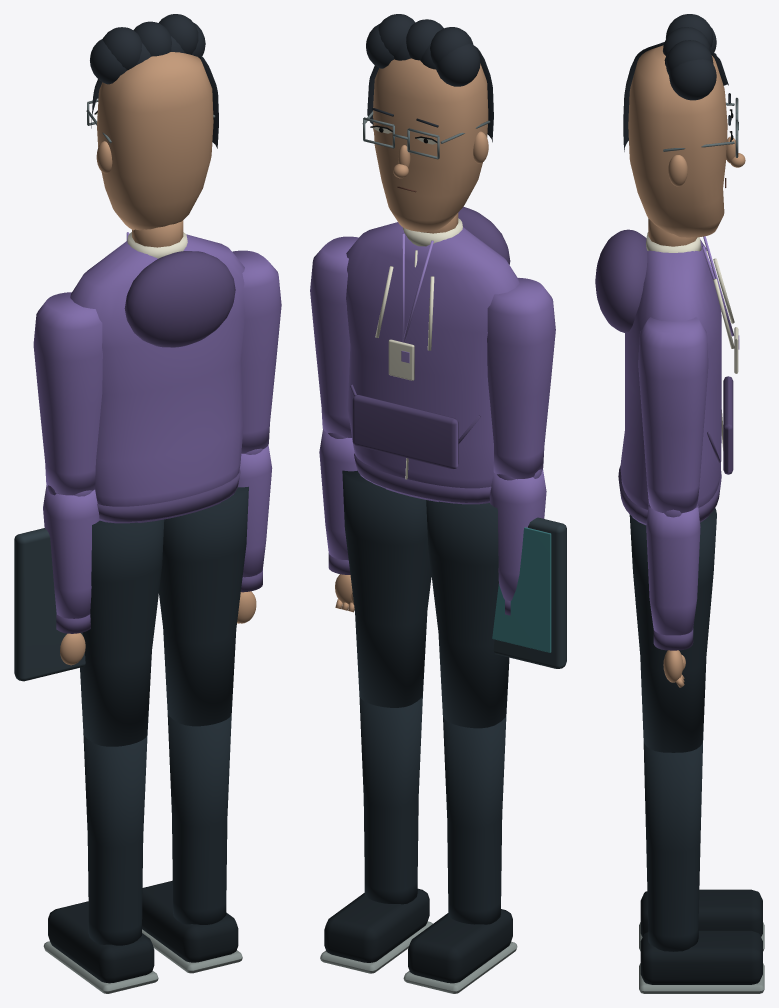
The model's file is npc_ai.glb.
3 views of the same model, side by side, from view 1: azimuth 30°, elevation 25°; view 2: azimuth 150°, elevation 25°; view 3: azimuth 270°, elevation 25° (orthographic).
Parts seen in each view (by area): view 1: QuietClothTorso, AdultFace, TrouserThigh.001, TrouserThigh, Sleeve, Knee, Knee.001, FoldedHood, Sleeve.001, Tablet, ElbowTransition, Eyebrow (+8 smaller); view 2: QuietClothTorso, TrouserThigh.001, AdultFace, TrouserThigh, Sleeve, Knee.001, Knee, FoldedHood, Sleeve.001, Eyebrow, OrdinaryShoe.001, OrdinaryShoe (+10 smaller); view 3: AdultFace, Sleeve.001, QuietClothTorso, Knee.001, TrouserThigh.001, ElbowTransition.001, FoldedHood, OrdinaryShoe.001, Eyebrow, OrdinaryShoe, HoodDrawstring, ShoeSole.001 (+5 smaller).
Part boxes in pixels (x1,y1,x2,y2): QuietClothTorso: [70, 234, 245, 523]; AdultFace: [96, 52, 213, 230]; TrouserThigh.001: [159, 486, 248, 726]; TrouserThigh: [80, 519, 164, 746]; Sleeve: [33, 292, 102, 495]; Knee: [83, 733, 147, 945]; Knee.001: [167, 713, 231, 924]; FoldedHood: [97, 251, 240, 521]; Sleeve.001: [232, 250, 281, 453]; Tablet: [14, 528, 85, 681]; ElbowTransition: [43, 485, 99, 618]; Eyebrow: [90, 14, 218, 148]; QuietClothTorso: [346, 222, 519, 504]; TrouserThigh.001: [342, 470, 431, 707]; AdultFace: [372, 58, 488, 231]; TrouserThigh: [426, 500, 509, 728]; Sleeve: [487, 278, 555, 478]; Knee.001: [359, 695, 422, 904]; Knee: [443, 716, 506, 924]; FoldedHood: [350, 206, 510, 502]; Sleeve.001: [310, 236, 358, 437]; Eyebrow: [366, 14, 493, 142]; OrdinaryShoe.001: [324, 888, 429, 962]; OrdinaryShoe: [408, 909, 512, 983]; AdultFace: [628, 45, 745, 237]; Sleeve.001: [638, 317, 708, 512]; QuietClothTorso: [620, 240, 721, 525]; Knee.001: [643, 741, 702, 951]; TrouserThigh.001: [629, 508, 716, 752]; ElbowTransition.001: [646, 500, 700, 635]; FoldedHood: [595, 229, 733, 523]; OrdinaryShoe.001: [640, 930, 762, 984]; Eyebrow: [623, 14, 730, 151]; OrdinaryShoe: [640, 889, 762, 936]; HoodDrawstring: [646, 232, 738, 450]; ShoeSole.001: [639, 963, 764, 993].
Bounding box in the file's own units: 0.442 × 1.56 × 0.256.
